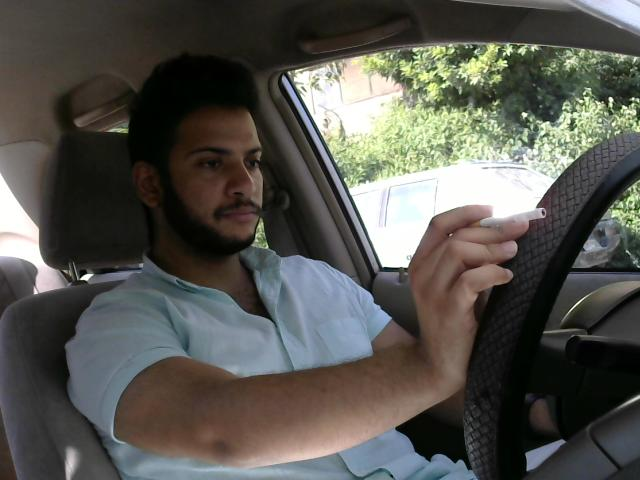Smoking: (460, 205, 551, 228)
